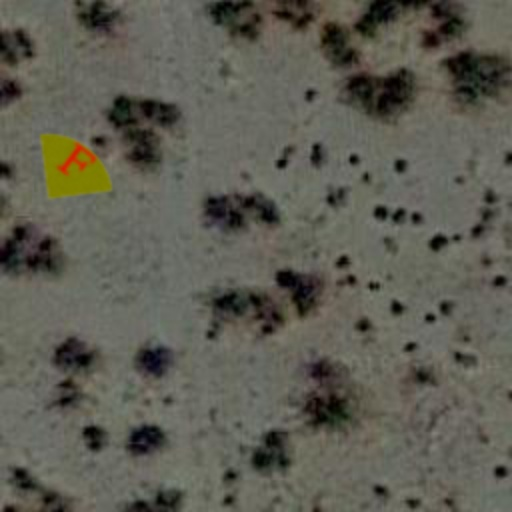quarter_circle: (10, 106, 134, 230)
